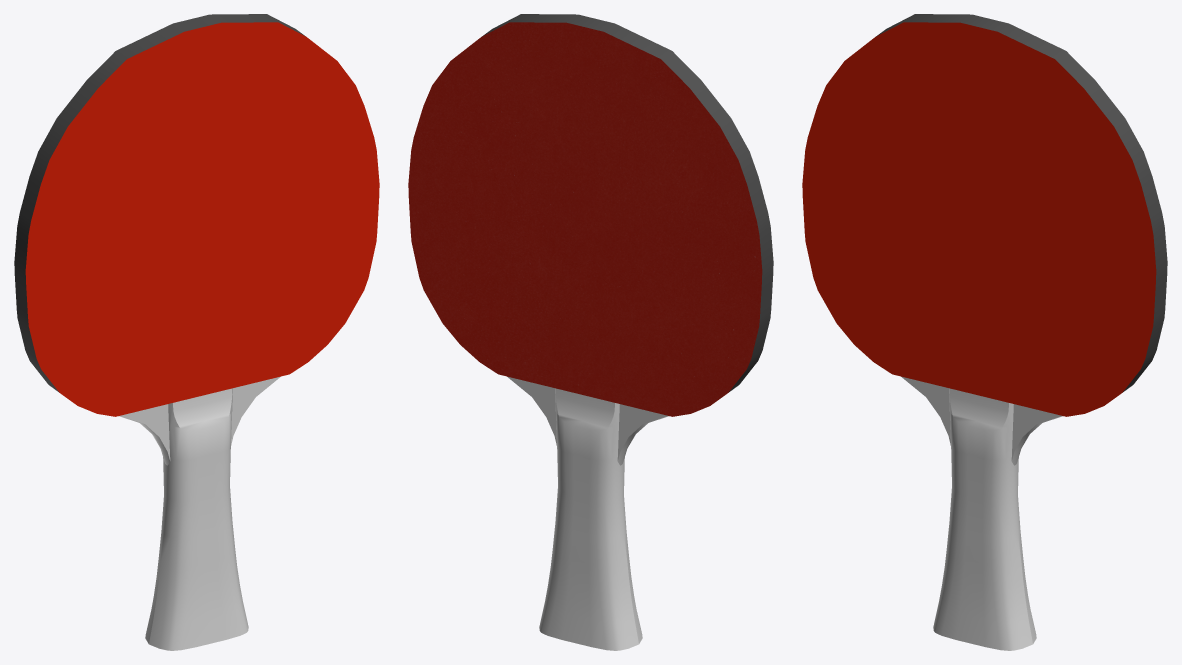
The model's file is racket-textureCopy.fbx.
3 views of the same model, side by side, from view 1: azimuth 30°, elevation 25°; view 2: azimuth 150°, elevation 25°; view 3: azimuth 330°, elevation 25° (orthographic).
Visible parts, largest first — view 1: racket face, handle, handle-side-bits; view 2: racket face, handle, handle-side-bits; view 3: racket face, handle, handle-side-bits.
Part boxes in pixels (x1,y1,x2,y2): racket face: (14, 14, 379, 416); handle: (145, 388, 248, 650); handle-side-bits: (119, 376, 280, 465); racket face: (408, 14, 773, 416); handle: (539, 388, 642, 650); handle-side-bits: (507, 376, 668, 465); racket face: (802, 14, 1167, 416); handle: (933, 388, 1036, 650); handle-side-bits: (901, 376, 1062, 465).
Size of the model in its own units: 14.97 by 24.64 by 2.15.
